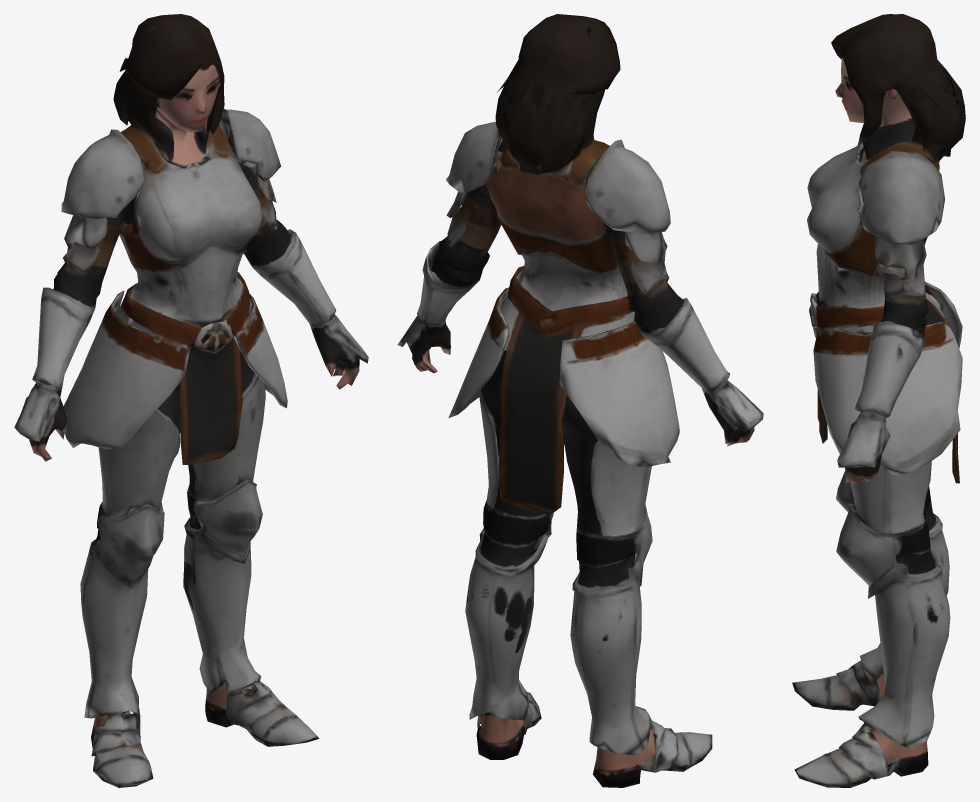
Rendered from warrior-12k.glb.
The picture shows the model from 3 angles, left to right: view 1: azimuth 30°, elevation 25°; view 2: azimuth 150°, elevation 25°; view 3: azimuth 270°, elevation 25°; orthographic projection. The views are drawn at different scales.
Size of the model in its own units: 0.4976 by 0.9995 by 0.219.
Materials: 1 (1 with a texture image).
